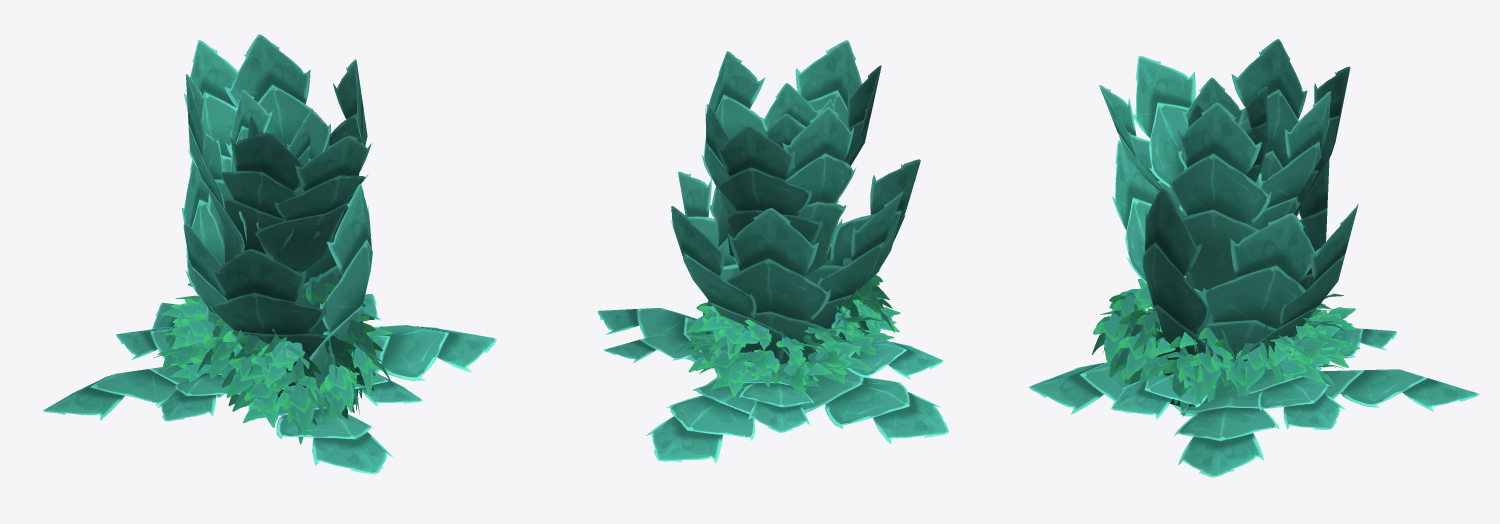
Rendered from M_Bush4.FBX.
The picture shows the model from 3 angles, left to right: view 1: azimuth 30°, elevation 25°; view 2: azimuth 150°, elevation 25°; view 3: azimuth 270°, elevation 25°; orthographic projection. The views are drawn at different scales.
Parts seen in each view (by area): view 1: Object304; view 2: Object304; view 3: Object304.
Part boxes in pixels (x1,y1,x2,y2): Object304: (43,34,496,474); Object304: (597,40,949,463); Object304: (1028,39,1479,477).
Bounding box in the file's own units: 309 × 259 × 289.
